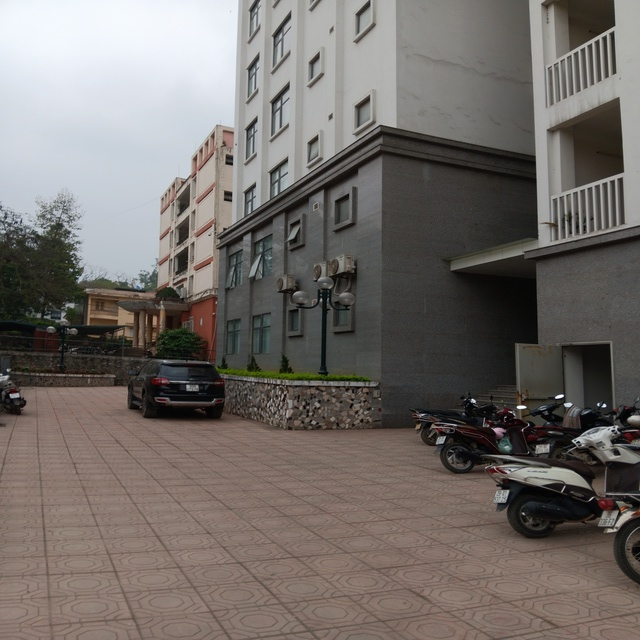cotden: (294, 271, 357, 379), (44, 314, 83, 379)
